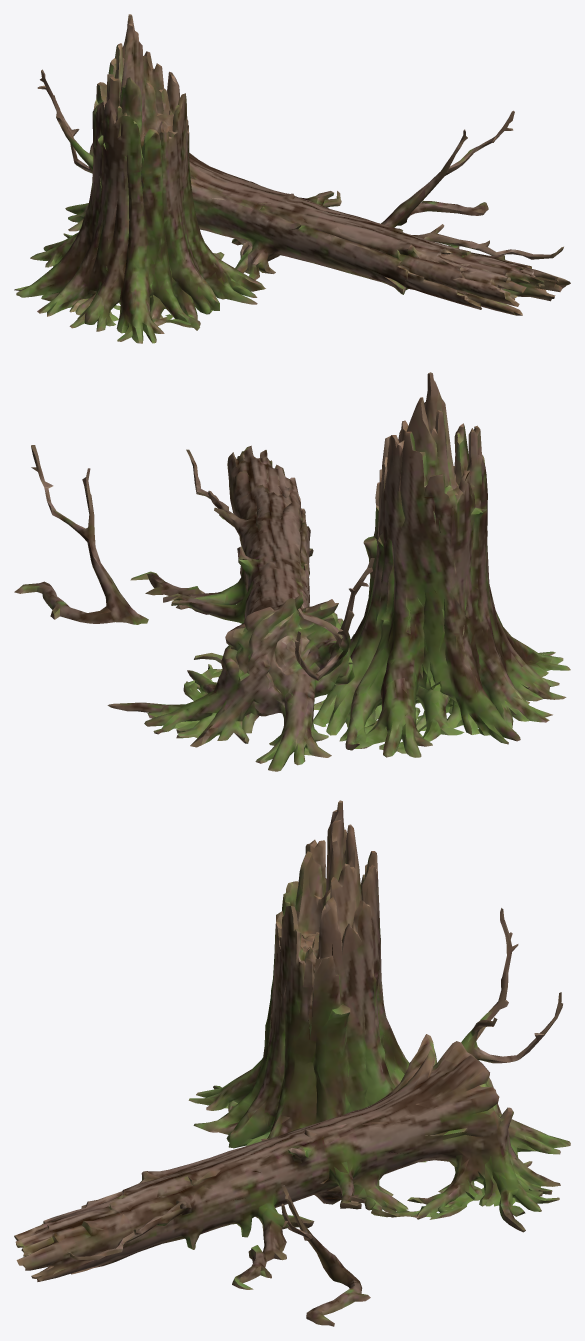
File: TreeSnag.glb
The picture shows the model from 3 angles, top to bottom: view 1: azimuth 30°, elevation 25°; view 2: azimuth 150°, elevation 25°; view 3: azimuth 270°, elevation 25°; orthographic projection. The views are drawn at different scales.
Parts seen in each view (by area): view 1: TreeSnag; view 2: TreeSnag; view 3: TreeSnag.
Boxes of the visible parts, <box> form: TreeSnag: <box>14,14,570,343</box>; TreeSnag: <box>14,372,570,771</box>; TreeSnag: <box>14,800,570,1326</box>.
Bounding box in the file's own units: 3.59 × 2.06 × 3.22.
1 material, 1 textured.
